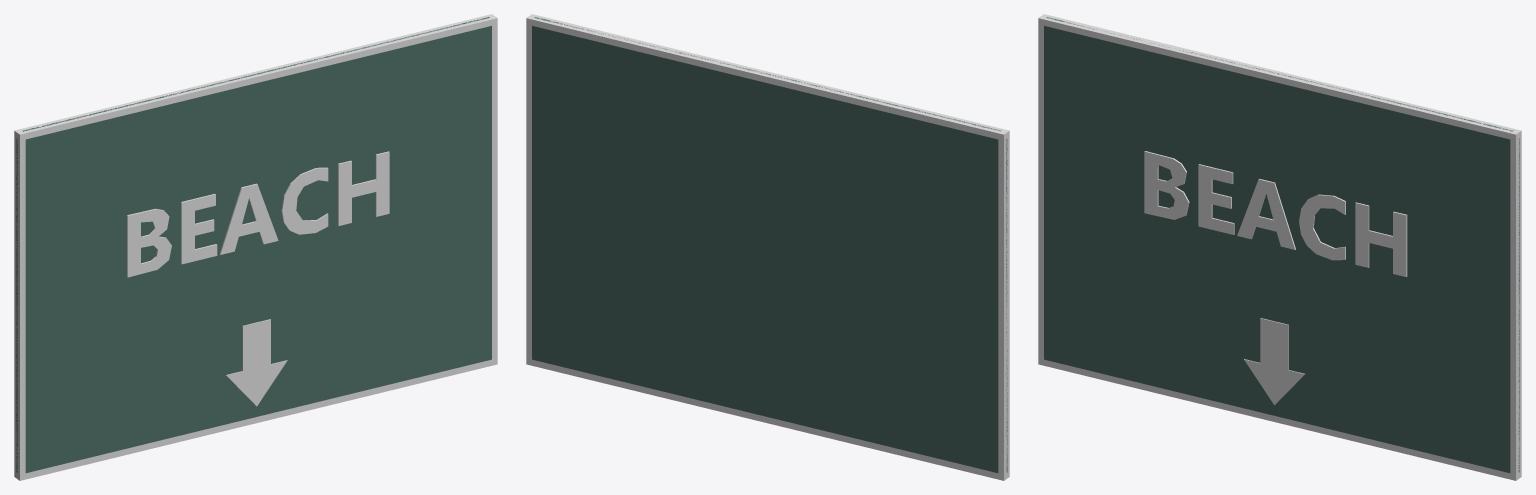
File: SM_FloorProps_RoadSign_30.fbx
3 views of the same model, side by side, from view 1: azimuth 30°, elevation 25°; view 2: azimuth 150°, elevation 25°; view 3: azimuth 330°, elevation 25° (orthographic).
Visible parts, largest first — view 1: SM_FloorProps_RoadSign_30; view 2: SM_FloorProps_RoadSign_30; view 3: SM_FloorProps_RoadSign_30.
Boxes of the visible parts, box(x1,y1,x2,y2) form: SM_FloorProps_RoadSign_30: box(14, 14, 497, 480); SM_FloorProps_RoadSign_30: box(526, 14, 1009, 480); SM_FloorProps_RoadSign_30: box(1038, 14, 1521, 480).
Bounding box in the file's own units: 2.33 × 1.61 × 0.0547.
